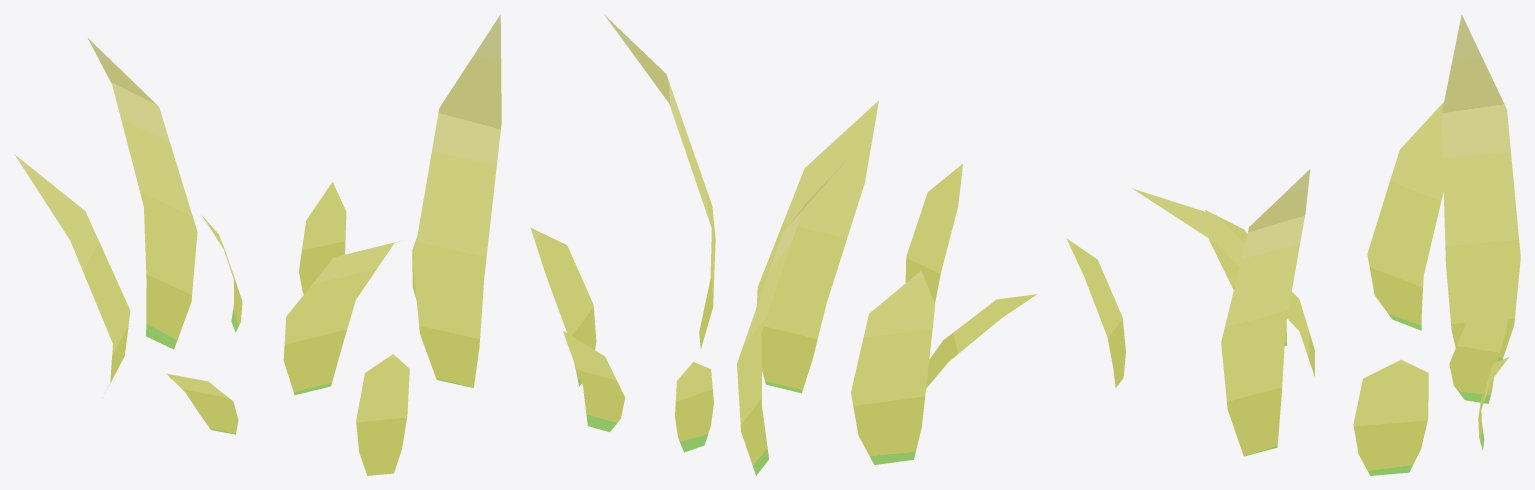
Rendered from SM_grassCluster01.fbx.
3 renders of one model, left to right at view 1: azimuth 30°, elevation 25°; view 2: azimuth 150°, elevation 25°; view 3: azimuth 270°, elevation 25°, orthographic. The views are drawn at different scales.
Visible parts, largest first — view 1: SM_grassCluster01; view 2: SM_grassCluster01; view 3: SM_grassCluster01.
Part boxes in pixels (bbox=[...]): SM_grassCluster01: bbox=[14, 14, 501, 475]; SM_grassCluster01: bbox=[530, 14, 1036, 475]; SM_grassCluster01: bbox=[1066, 14, 1520, 475].
Bounding box in the file's own units: 52.4 × 38.75 × 50.43.
1 material, 1 textured.
